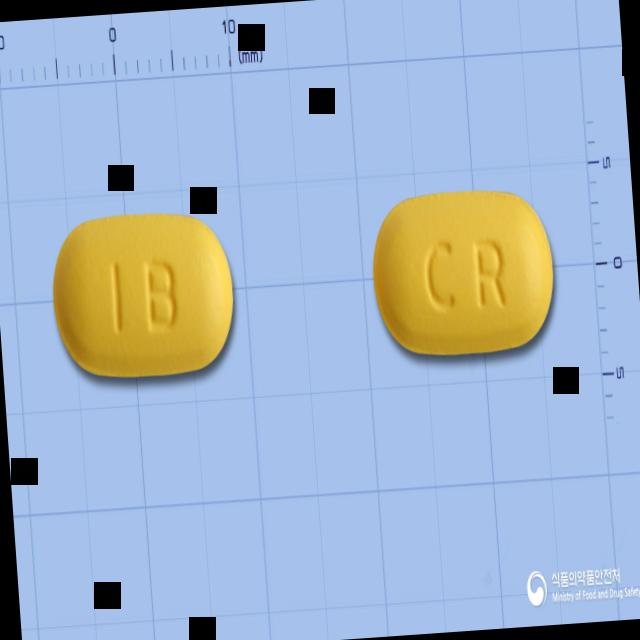Bearcin: (367, 181, 559, 358), (48, 208, 240, 384)
